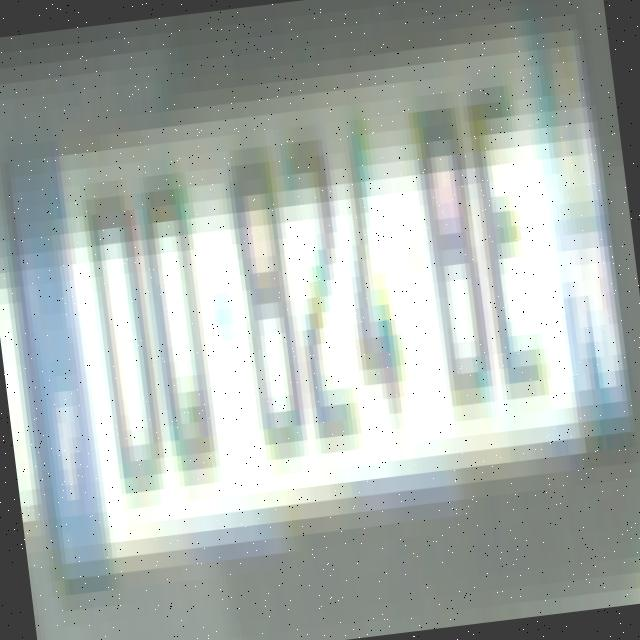EU: (2, 9, 627, 559)
France: (2, 141, 109, 553)
